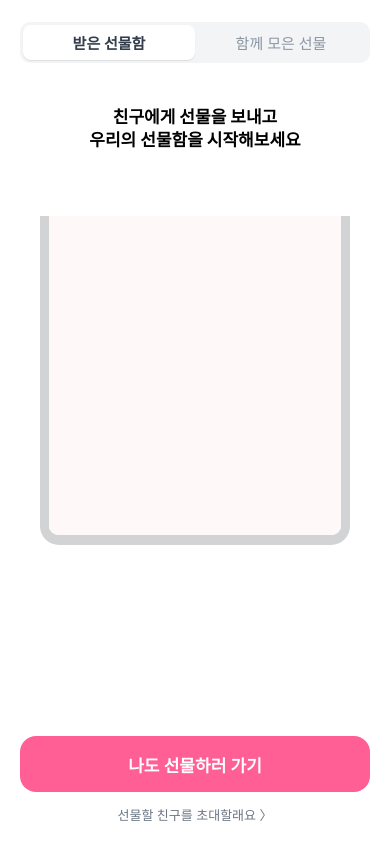
Test: 선물 추출 흐름 › 카메라로 찍은 사진도 같은 추출 흐름을 탄다
Click the text "나도 선물하러 가기". click: coordinates (195, 764)
box: [128,752,262,776]
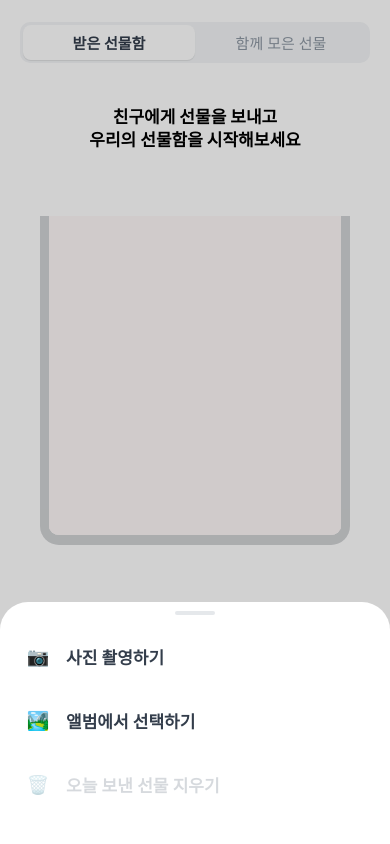
Click the text "사진 촬영하기". click: coordinates (115, 656)
box: [66,644,164,668]
Wait 400 ms
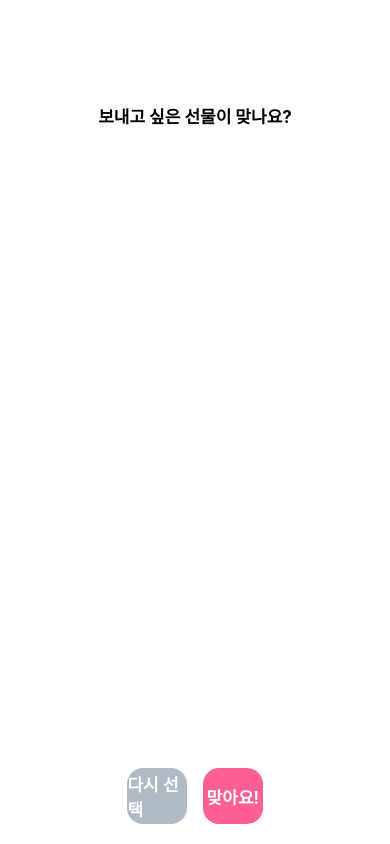
Check: the text "보내고 싶은 선물이 맞나요?" is shown, box [98,106,292,129]
